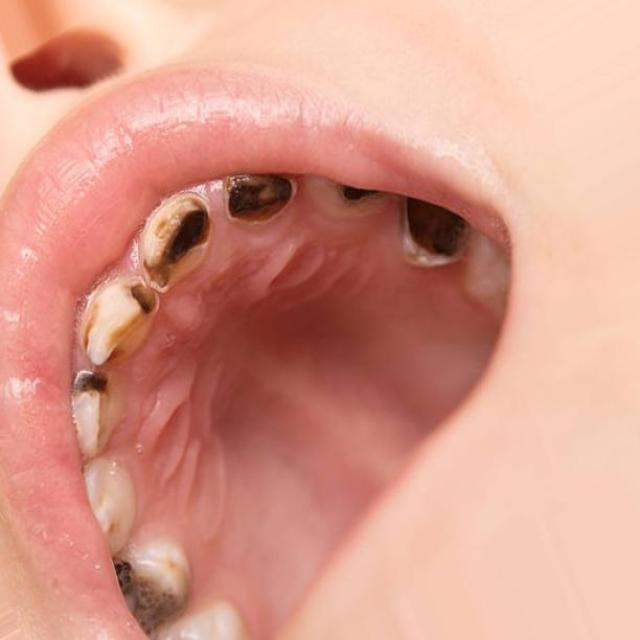caries: (134, 195, 218, 287), (72, 284, 156, 362), (395, 197, 475, 268), (111, 557, 186, 632), (224, 171, 299, 225), (64, 366, 115, 417), (330, 178, 380, 215)
